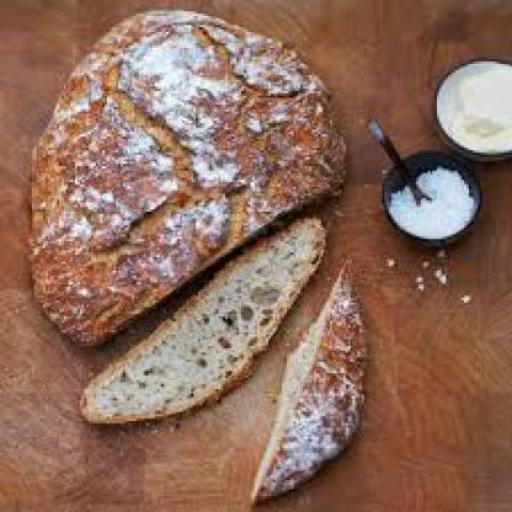biodegradable: (25, 6, 344, 342), (74, 214, 326, 426), (246, 255, 366, 506), (390, 173, 470, 234), (450, 70, 510, 134)
metal: (364, 116, 428, 203)
